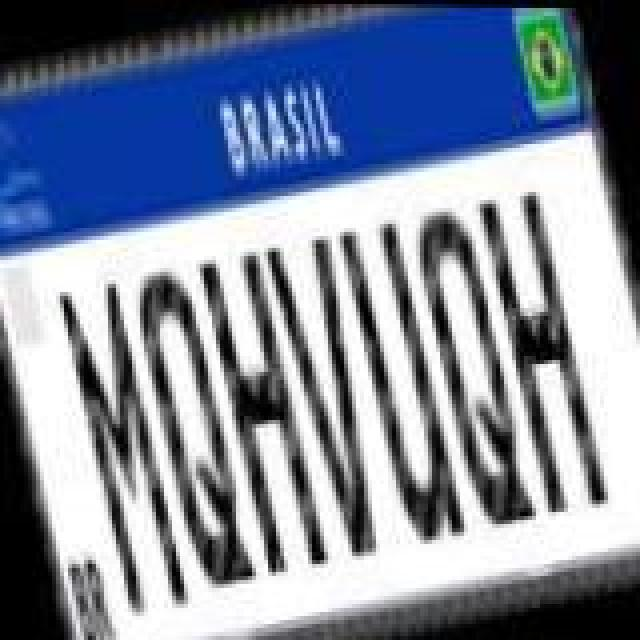H: (476, 184, 612, 524), (198, 244, 334, 580)
M: (54, 274, 190, 618)
Q: (128, 260, 260, 596), (406, 196, 538, 532)
U: (334, 208, 466, 548)
V: (260, 226, 400, 566)
